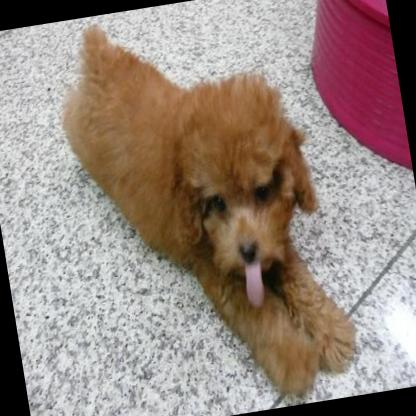toy_poodle: (47, 0, 368, 416)
